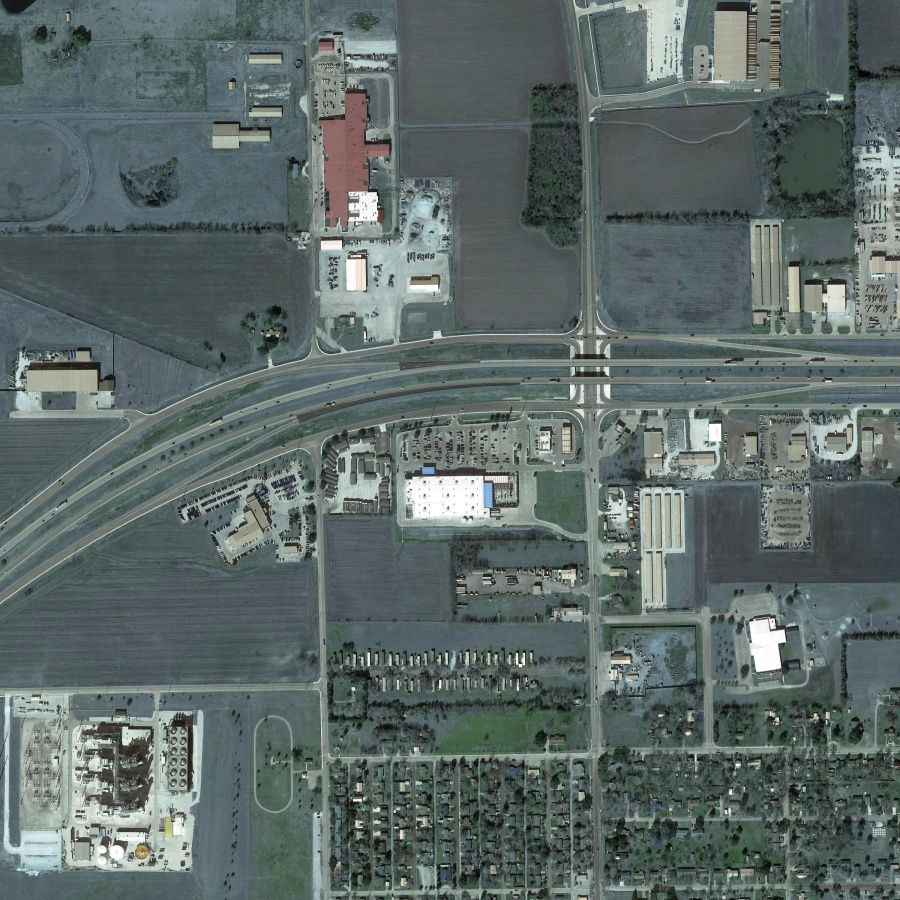PowerPlant: (6, 689, 200, 878)
